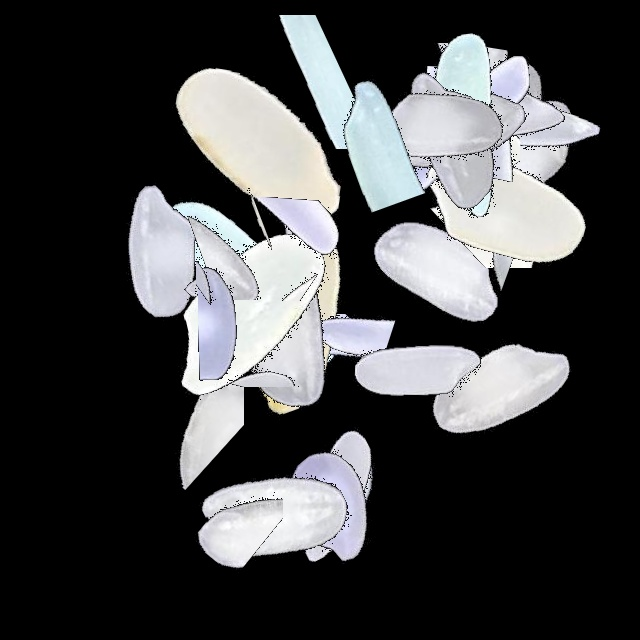Broken: (155, 283, 405, 455), (180, 102, 349, 352), (291, 0, 454, 250), (390, 131, 640, 268), (107, 273, 244, 523), (385, 0, 520, 250), (148, 15, 398, 149), (198, 198, 325, 448), (156, 370, 283, 620), (195, 314, 445, 440), (319, 66, 569, 190), (135, 179, 385, 300), (137, 197, 387, 313), (232, 462, 482, 573), (279, 48, 529, 158), (449, 0, 557, 250), (218, 261, 468, 365), (331, 43, 581, 141), (300, 85, 550, 178), (330, 237, 580, 329), (196, 144, 288, 394), (208, 154, 299, 404), (124, 299, 374, 387), (190, 132, 272, 382), (91, 248, 341, 327), (316, 53, 566, 129), (153, 225, 403, 301)
Full: (312, 148, 562, 398), (129, 155, 379, 405), (32, 131, 282, 381), (376, 0, 626, 250), (131, 154, 381, 404), (348, 35, 598, 285), (390, 35, 640, 285), (175, 200, 425, 450), (378, 0, 628, 250), (376, 264, 626, 514), (376, 82, 626, 332), (291, 244, 541, 494), (208, 369, 458, 619), (127, 188, 377, 438), (204, 382, 454, 632), (134, 21, 384, 271), (367, 0, 617, 250), (325, 0, 575, 250), (330, 0, 580, 250), (152, 390, 402, 640), (339, 0, 589, 250), (322, 13, 572, 263), (311, 0, 561, 250)
